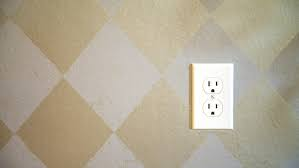outlet: (205, 79, 219, 93), (206, 101, 218, 116)
